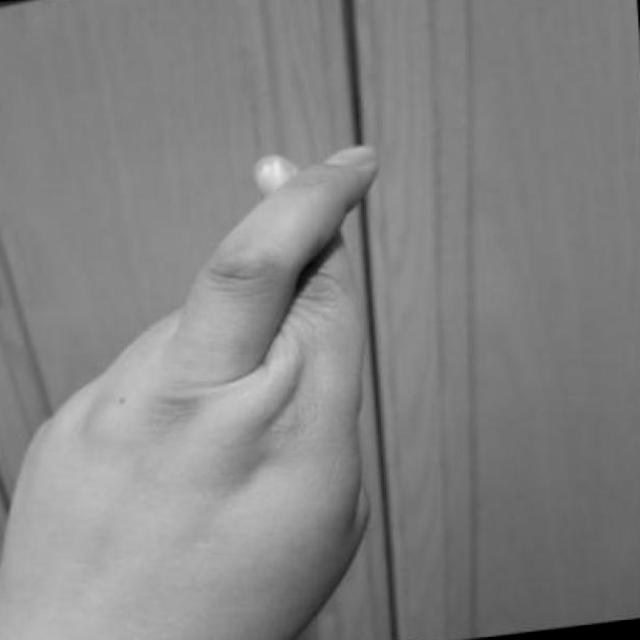R: (20, 129, 399, 632)
